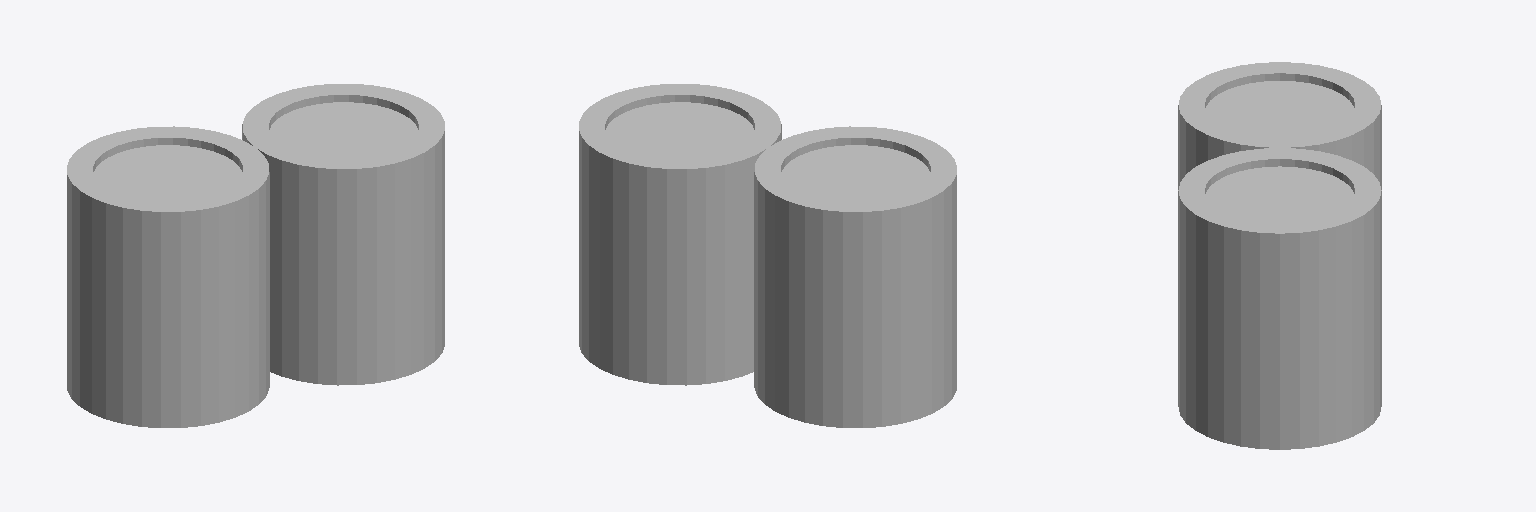
Rendered from DoubleBarrel.obj.
3 renders of one model, left to right at view 1: azimuth 30°, elevation 25°; view 2: azimuth 150°, elevation 25°; view 3: azimuth 270°, elevation 25°, orthographic.
Parts seen in each view (by area): view 1: Cylinder.001; view 2: Cylinder.001; view 3: Cylinder.001.
Boxes of the visible parts, x1,y1,x2,y2 form: Cylinder.001: [67, 84, 444, 427]; Cylinder.001: [579, 84, 956, 427]; Cylinder.001: [1178, 62, 1381, 449].
Size of the model in its own units: 1.98 by 1.16 by 0.9914.